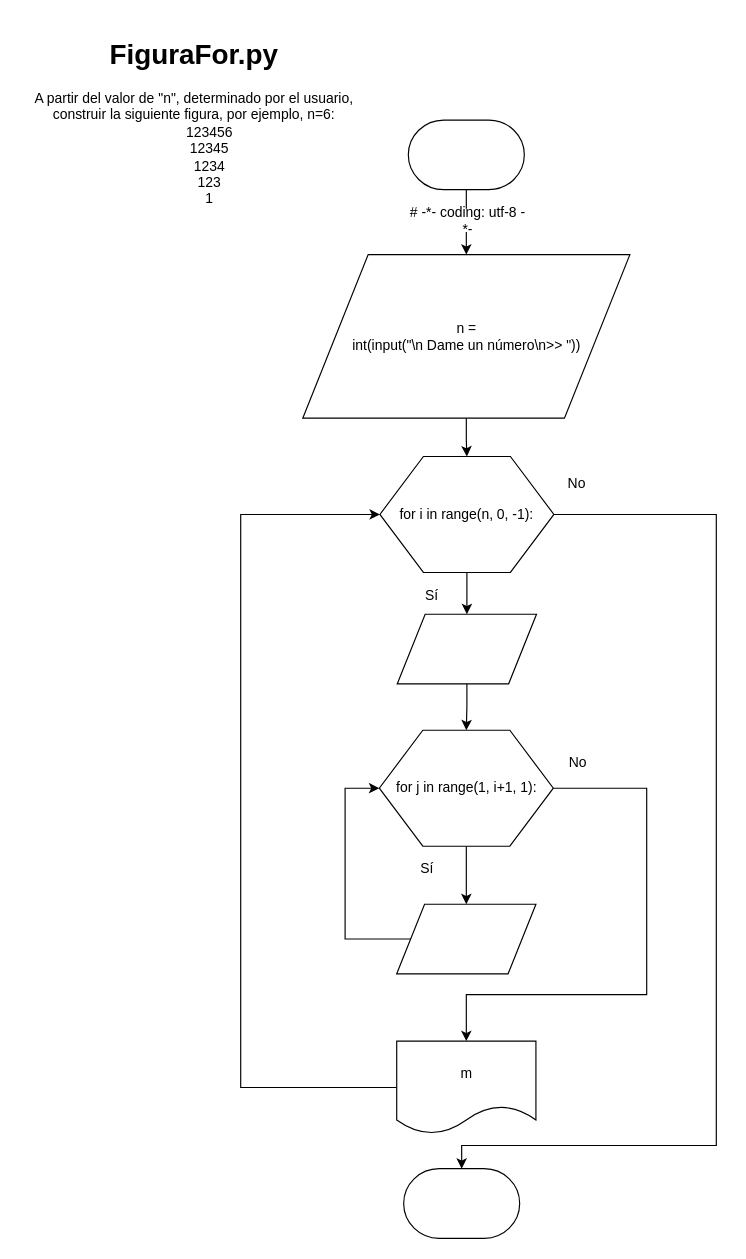
This 746x1259 diagram has some shape labels left out. Here are the shapes that lost their labels. From the top down, the centre of each, then its label:
the point at 466,648: m = ""
the point at 466,938: m += str(j)
